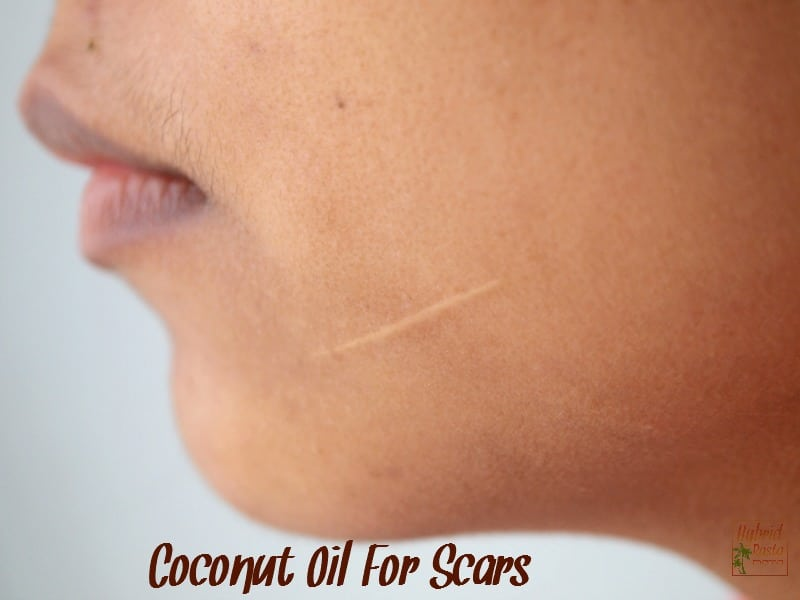scar: (303, 275, 505, 368)
